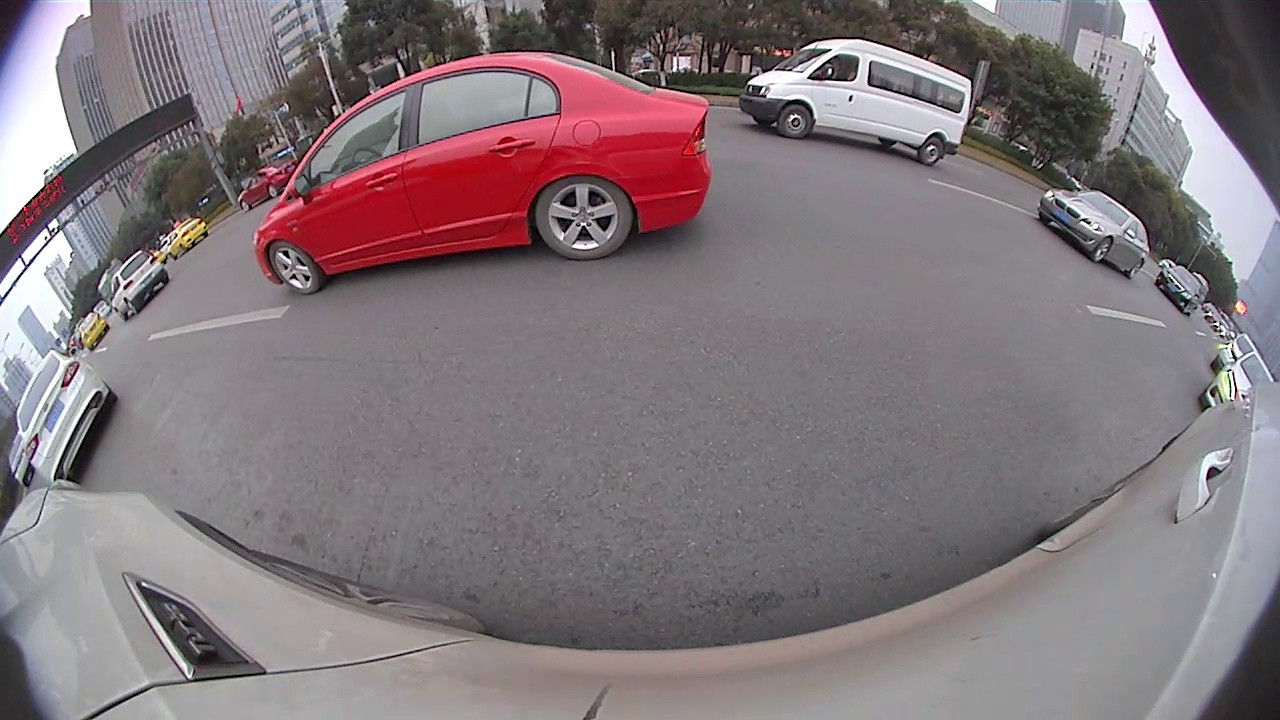car: (252, 55, 708, 294), (738, 39, 974, 163), (15, 355, 118, 484), (1038, 192, 1150, 277), (112, 247, 171, 320), (1203, 355, 1272, 413), (239, 162, 296, 209)
front: (268, 239, 321, 295), (777, 102, 814, 138), (1088, 234, 1116, 264)
rear: (534, 173, 632, 259), (919, 138, 947, 167), (1129, 259, 1144, 279)
